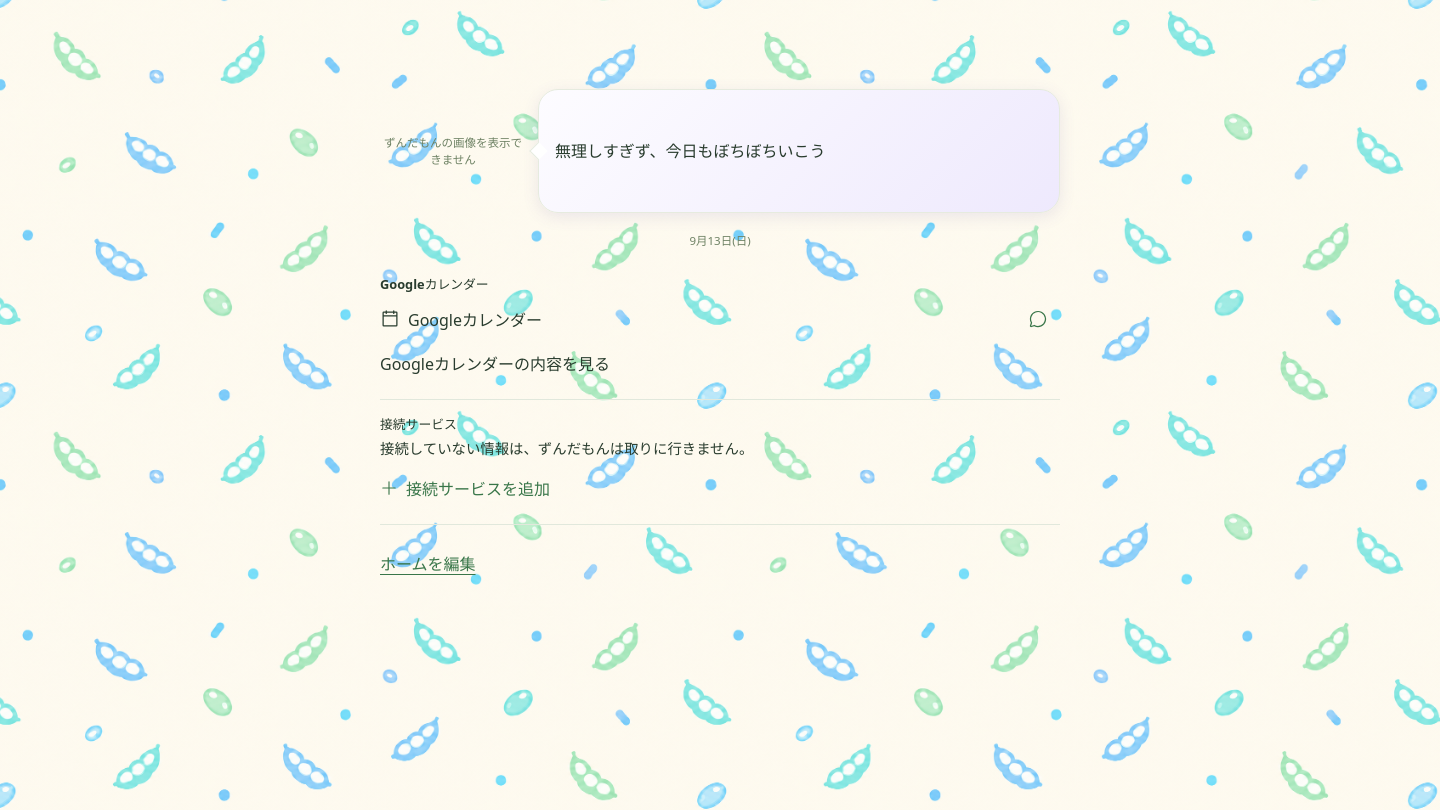
Test: integrated UI screens › returns a failed Home preview to a retryable fixed error without provider details
Click the button "Googleカレンダーの内容を見る". click: click(495, 364)
box: [380,341,1060,385]
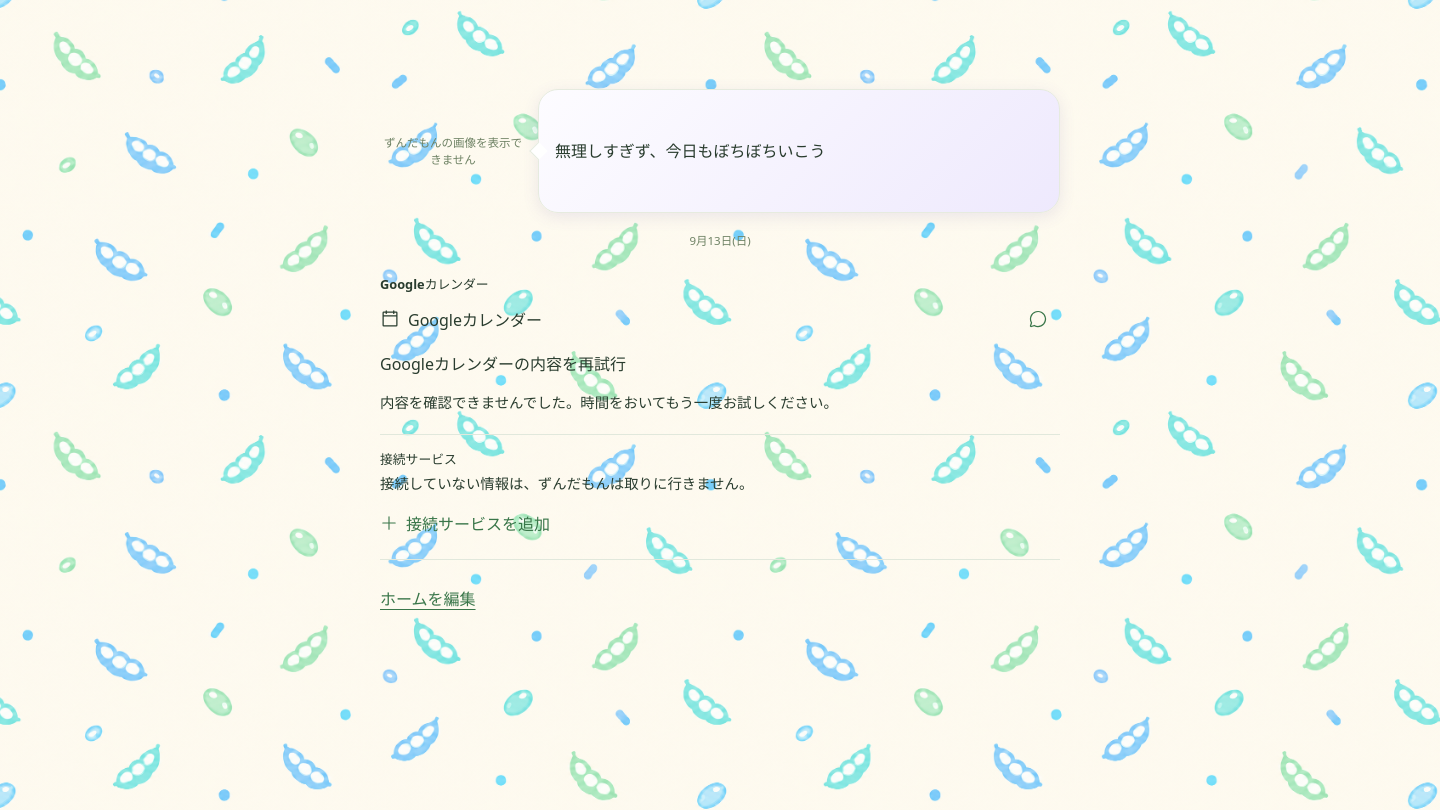
Expected: the message reads "内容を確認できませんでした。時間をおいてもう一度お試しください。", [380,393,838,412]
